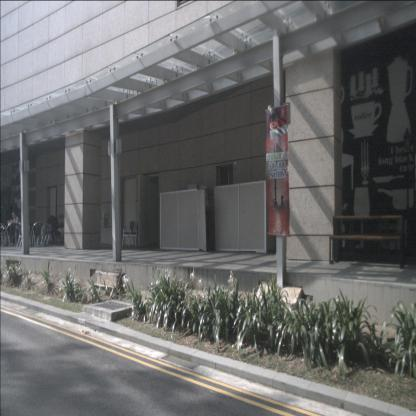human-pedestrian-adult: (7, 211, 20, 246), (50, 215, 61, 244)
